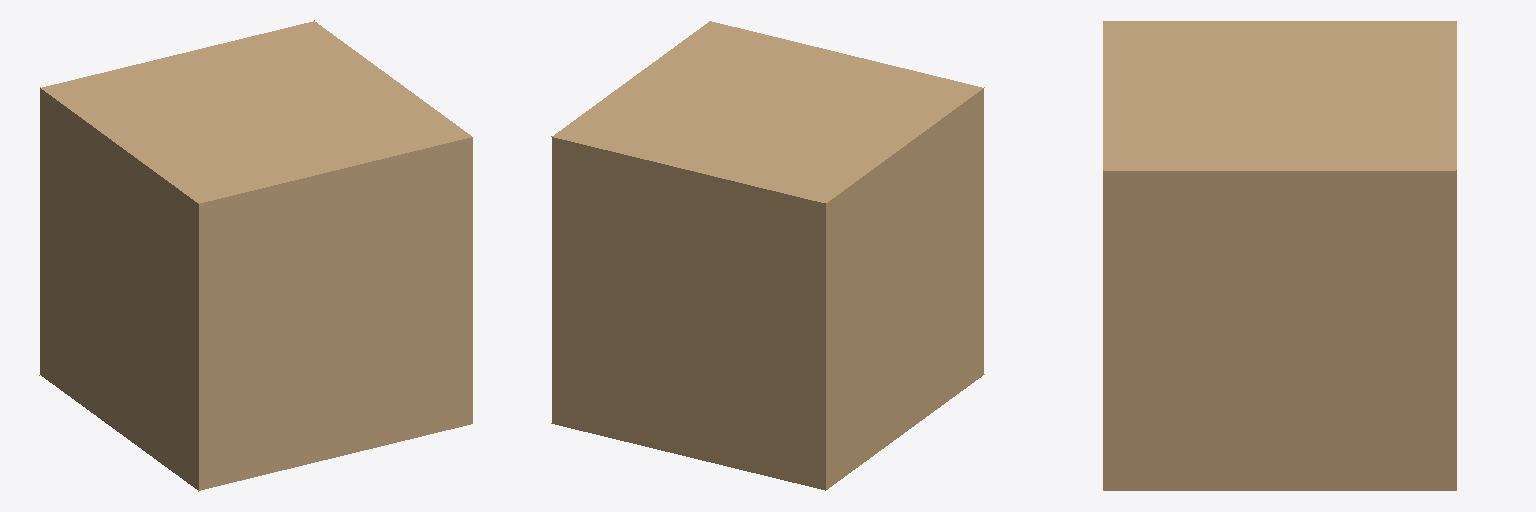
The robot description file, URDF, robot "box":
<?xml version="1.0" ?>
<robot name = "box">
  <material name="Black">
    <color rgba="0.0 0.0 0.0 1.0"/>
  </material>
  <material name="Blue">
    <color rgba="0.0 0.0 0.8 1.0"/>
  </material>
  <material name="Green">
    <color rgba="0.0 0.8 0.0 1.0"/>
  </material>
  <material name="Grey">
    <color rgba="0.4 0.4 0.4 1.0"/>
  </material>
  <material name="Orange">
    <color rgba="1.0 0.423529411765 0.0392156862745 1.0"/>
  </material>
  <material name="Brown">
    <color rgba="0.870588235294 0.811764705882 0.764705882353 1.0"/>
  </material>
  <material name="Tan">
    <color rgba="0.823 0.706 0.549 1.0"/>
  </material>
  <material name="Red">
    <color rgba="0.8 0.0 0.0 1.0"/>
  </material>
  <material name="White">
    <color rgba="1.0 1.0 1.0 1.0"/>
  </material>
	<link name = "box">
		<inertial>
			<origin xyz="0 0 0"/>
			<mass value="1.27"/>
            <!-- I = (5/18)*M*a^2 -->
			<inertia ixx="0.1126" ixy="0" ixz="0" iyy="0.1126" iyz="0" izz="0.1126"/>
		</inertial>
	<visual>
		<origin rpy="0 0 0" xyz="0 0 0"/>
		<geometry>
			<box size="0.565 0.565 0.565"/>
		</geometry>
		<material name="Tan"/>
  </visual>

        <!--collision box-->

        <visual>
            <origin rpy="0 0 0" xyz="0 0 0.0"/>
            <geometry>
                <box size="0.56 0.56 0.56"/>
            </geometry>
        </visual>

	<collision>
		<origin rpy="0 0 0" xyz="0 0 0.0"/>
		<geometry>
			<box size="0.56 0.56 0.56"/>
		</geometry>
        <drake_compliance>
            <youngs_modulus>3e7</youngs_modulus>
            <dissipation>5</dissipation>
            <static_friction>0.5</static_friction>
            <dynamic_friction>0.2</dynamic_friction>
        </drake_compliance>
  </collision>

        <!--collision box-->

    <visual>
        <origin xyz="-0.2825 -0.2825 -0.2825" rpy="0 0 0"/>
        <geometry>
            <sphere radius="1e-3"/>
        </geometry>
    </visual>
  <collision>
    <origin xyz="-0.2825 -0.2825 -0.2825" rpy="0 0 0"/>
    <geometry>
      <sphere radius="1e-3"/>
    </geometry>
      <drake_compliance>
          <youngs_modulus>3e7</youngs_modulus>
          <dissipation>5</dissipation>
          <static_friction>0.5</static_friction>
          <dynamic_friction>0.2</dynamic_friction>
      </drake_compliance>
  </collision>

        <visual>
            <origin xyz="-0.285 0.2825 -0.2825" rpy="0 0 0"/>
            <geometry>
                <sphere radius="1e-3"/>
            </geometry>
        </visual>
  <collision>
    <origin xyz="-0.2825 0.2825 -0.2825" rpy="0 0 0"/>
    <geometry>
      <sphere radius="1e-3"/>
    </geometry>
      <drake_compliance>
          <youngs_modulus>3e7</youngs_modulus>
          <dissipation>5</dissipation>
          <static_friction>0.5</static_friction>
          <dynamic_friction>0.2</dynamic_friction>
      </drake_compliance>
  </collision>


        <visual>
            <origin xyz="0.2825 -0.2825 -0.2825" rpy="0 0 0"/>
            <geometry>
                <sphere radius="1e-3"/>
            </geometry>
        </visual>

  <collision>
    <origin xyz="0.2825 -0.2825 -0.2825" rpy="0 0 0"/>
    <geometry>
      <sphere radius="1e-3"/>
    </geometry>
      <drake_compliance>
          <youngs_modulus>3e7</youngs_modulus>
          <dissipation>5</dissipation>
          <static_friction>0.5</static_friction>
          <dynamic_friction>0.2</dynamic_friction>
      </drake_compliance>
  </collision>

  <visual>
    <origin xyz="0.2825 0.2825 -0.2825" rpy="0 0 0"/>
    <geometry>
        <sphere radius="1e-3"/>
    </geometry>
  </visual>
  <collision>
    <origin xyz="0.2825 0.2825 -0.2825" rpy="0 0 0"/>
    <geometry>
      <sphere radius="1e-3"/>
    </geometry>
      <drake_compliance>
          <youngs_modulus>3e7</youngs_modulus>
          <dissipation>5</dissipation>
          <static_friction>0.5</static_friction>
          <dynamic_friction>0.2</dynamic_friction>
      </drake_compliance>
  </collision>

<!--separator-->
        <visual>
            <origin xyz="0.2825 0.2825 0.2825" rpy="0 0 0"/>
            <geometry>
                <sphere radius="1e-3"/>
            </geometry>
        </visual>
        <collision>
            <origin xyz="0.2825 0.2825 0.2825" rpy="0 0 0"/>
            <geometry>
                <sphere radius="1e-3"/>
            </geometry>
            <drake_compliance>
                <youngs_modulus>3e7</youngs_modulus>
                <dissipation>5</dissipation>
                <static_friction>0.5</static_friction>
                <dynamic_friction>0.2</dynamic_friction>
            </drake_compliance>
        </collision>

        <visual>
            <origin xyz="0.2825 -0.2825 0.2825" rpy="0 0 0"/>
            <geometry>
                <sphere radius="1e-3"/>
            </geometry>
        </visual>
        <collision>
            <origin xyz="0.2825 -0.2825 0.2825" rpy="0 0 0"/>
            <geometry>
                <sphere radius="1e-3"/>
            </geometry>
            <drake_compliance>
                <youngs_modulus>3e7</youngs_modulus>
                <dissipation>5</dissipation>
                <static_friction>0.5</static_friction>
                <dynamic_friction>0.2</dynamic_friction>
            </drake_compliance>
        </collision>

        <visual>
            <origin xyz="-0.2825 -0.2825 0.2825" rpy="0 0 0"/>
            <geometry>
                <sphere radius="1e-3"/>
            </geometry>
        </visual>
        <collision>
            <origin xyz="-0.2825 -0.2825 0.2825" rpy="0 0 0"/>
            <geometry>
                <sphere radius="1e-3"/>
            </geometry>
            <drake_compliance>
                <youngs_modulus>3e7</youngs_modulus>
                <dissipation>5</dissipation>
                <static_friction>0.5</static_friction>
                <dynamic_friction>0.2</dynamic_friction>
            </drake_compliance>
        </collision>

        <visual>
            <origin xyz="-0.2825 0.2825 0.2825" rpy="0 0 0"/>
            <geometry>
                <sphere radius="1e-3"/>
            </geometry>
        </visual>
        <collision>
            <origin xyz="-0.2825 0.2825 0.2825" rpy="0 0 0"/>
            <geometry>
                <sphere radius="1e-3"/>
            </geometry>
            <drake_compliance>
                <youngs_modulus>3e7</youngs_modulus>
                <dissipation>5</dissipation>
                <static_friction>0.5</static_friction>
                <dynamic_friction>0.2</dynamic_friction>
            </drake_compliance>
        </collision>

	</link>
</robot>

--- Render facts (derived) ---
3 views of the same robot in one strip: view 1: azimuth 30°, elevation 25°; view 2: azimuth 150°, elevation 25°; view 3: azimuth 270°, elevation 25° (orthographic).
Model box with 1 links and 0 joints (none), rooted at box, posed all joints at 0.
Links seen in each view (by area): view 1: box; view 2: box; view 3: box.
Link boxes in pixels (box(x1,y1,x2,y2)): box: box(39, 20, 472, 491); box: box(551, 21, 984, 490); box: box(1103, 21, 1456, 490).
Bounding box of the posed robot: 0.5695 × 0.567 × 0.567 m (x, y, z).
Geometry: primitives only (box / cylinder / sphere), no mesh files.
